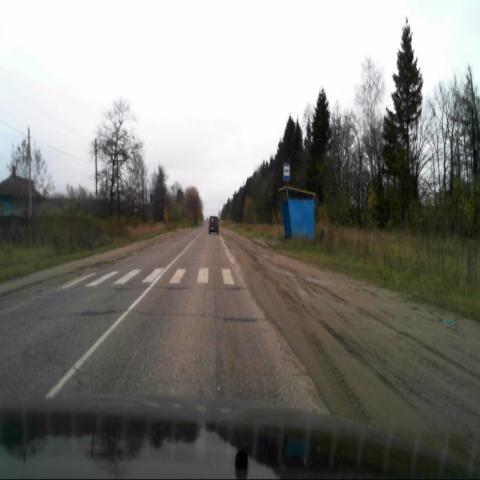5_16: (283, 164, 290, 181)
